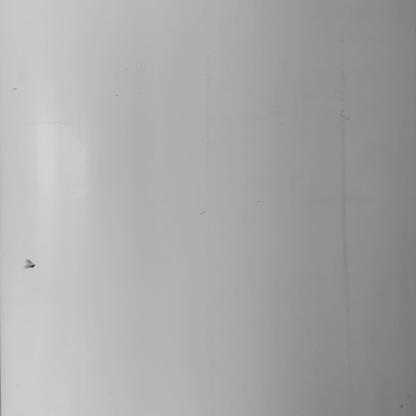kongdong: (9, 247, 50, 278)
